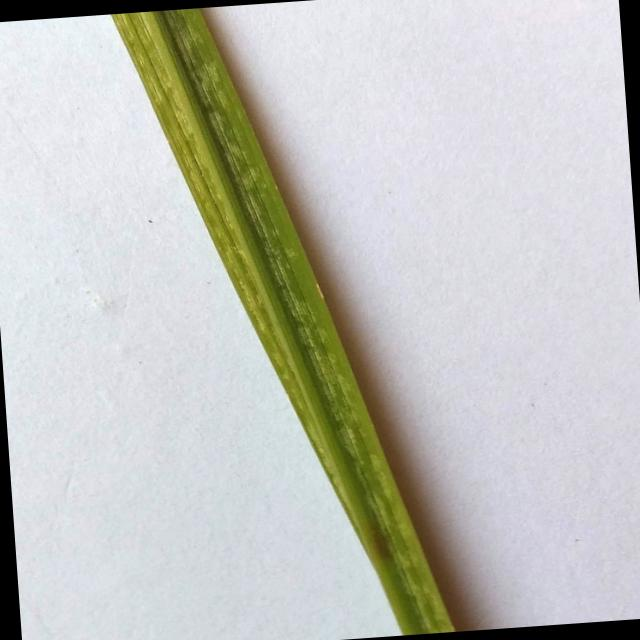Rice_Healthy: (111, 8, 454, 635)
